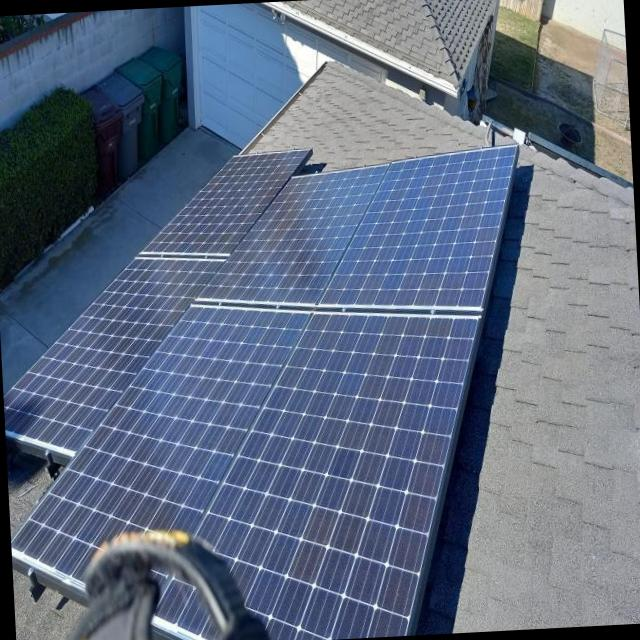no faulty: (204, 313, 478, 640), (11, 305, 312, 569), (5, 253, 219, 454), (318, 145, 521, 312), (192, 163, 384, 308), (141, 148, 303, 253)
